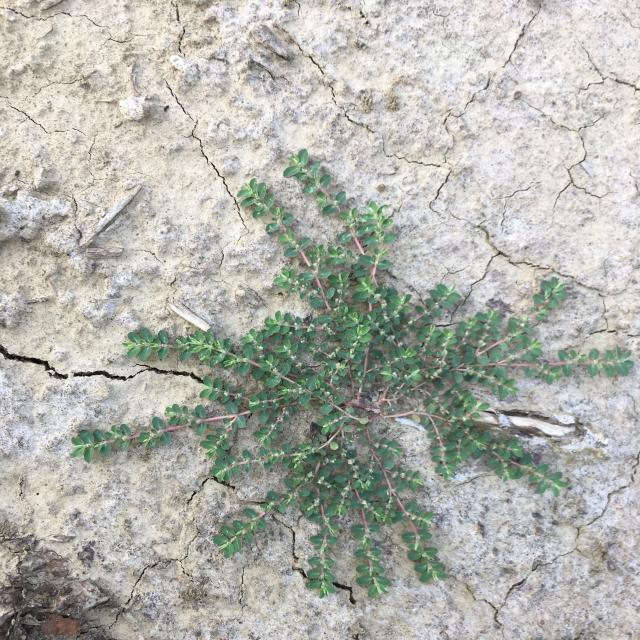SpottedSpurge: (71, 149, 635, 599)
